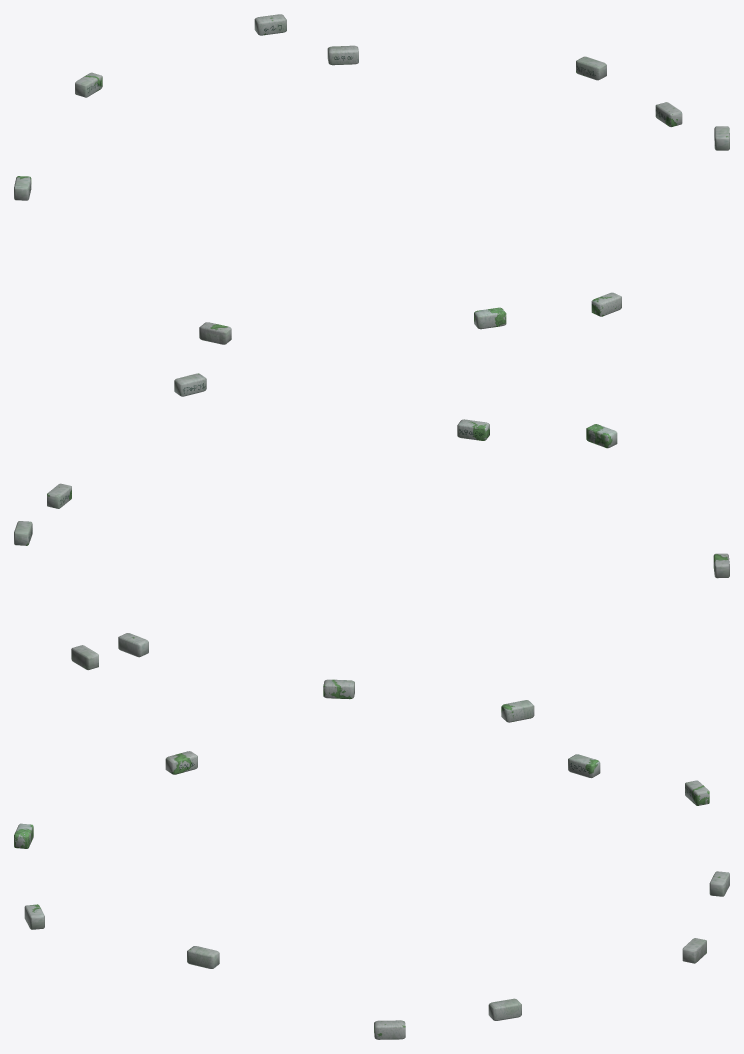
File: MageRuneBricks.fbx
The picture shows the model from 3 angles, top to bottom: view 1: azimuth 30°, elevation 25°; view 2: azimuth 150°, elevation 25°; view 3: azimuth 270°, elevation 25°; orthographic projection.
Visible parts, largest first — view 1: RuneBricksMageRoom.003, RuneBricksMageRoom.002, RuneBricksMageRoom.006, RuneBricksMageRoom.007, RuneBricksMageRoom.010, RuneBricksMageRoom.009; view 2: RuneBricksMageRoom, RuneBricksMageRoom.009, RuneBricksMageRoom.004, RuneBricksMageRoom.005, RuneBricksMageRoom.002, RuneBricksMageRoom.003; view 3: RuneBricksMageRoom.010, RuneBricksMageRoom.008, RuneBricksMageRoom.004, RuneBricksMageRoom.006, RuneBricksMageRoom, RuneBricksMageRoom.007, RuneBricksMageRoom.005.
Part boxes in pixels (<box>): RuneBricksMageRoom.003: <box>254,14,286,35</box>; RuneBricksMageRoom.002: <box>474,307,506,329</box>; RuneBricksMageRoom.006: <box>199,322,231,344</box>; RuneBricksMageRoom.007: <box>327,45,358,65</box>; RuneBricksMageRoom.010: <box>576,56,606,80</box>; RuneBricksMageRoom.009: <box>591,292,621,316</box>; RuneBricksMageRoom: <box>501,700,534,722</box>; RuneBricksMageRoom.009: <box>457,419,489,440</box>; RuneBricksMageRoom.004: <box>174,373,206,396</box>; RuneBricksMageRoom.005: <box>323,679,354,699</box>; RuneBricksMageRoom.002: <box>586,424,617,448</box>; RuneBricksMageRoom.003: <box>118,633,148,657</box>; RuneBricksMageRoom.010: <box>488,998,521,1020</box>; RuneBricksMageRoom.008: <box>374,1020,405,1039</box>; RuneBricksMageRoom.004: <box>187,946,219,968</box>; RuneBricksMageRoom.006: <box>165,751,197,774</box>; RuneBricksMageRoom: <box>568,754,600,778</box>; RuneBricksMageRoom.007: <box>682,938,706,963</box>; RuneBricksMageRoom.005: <box>685,780,709,805</box>.
Bounding box in the file's own units: 4350 × 549 × 4620.
1 material, 1 textured.
